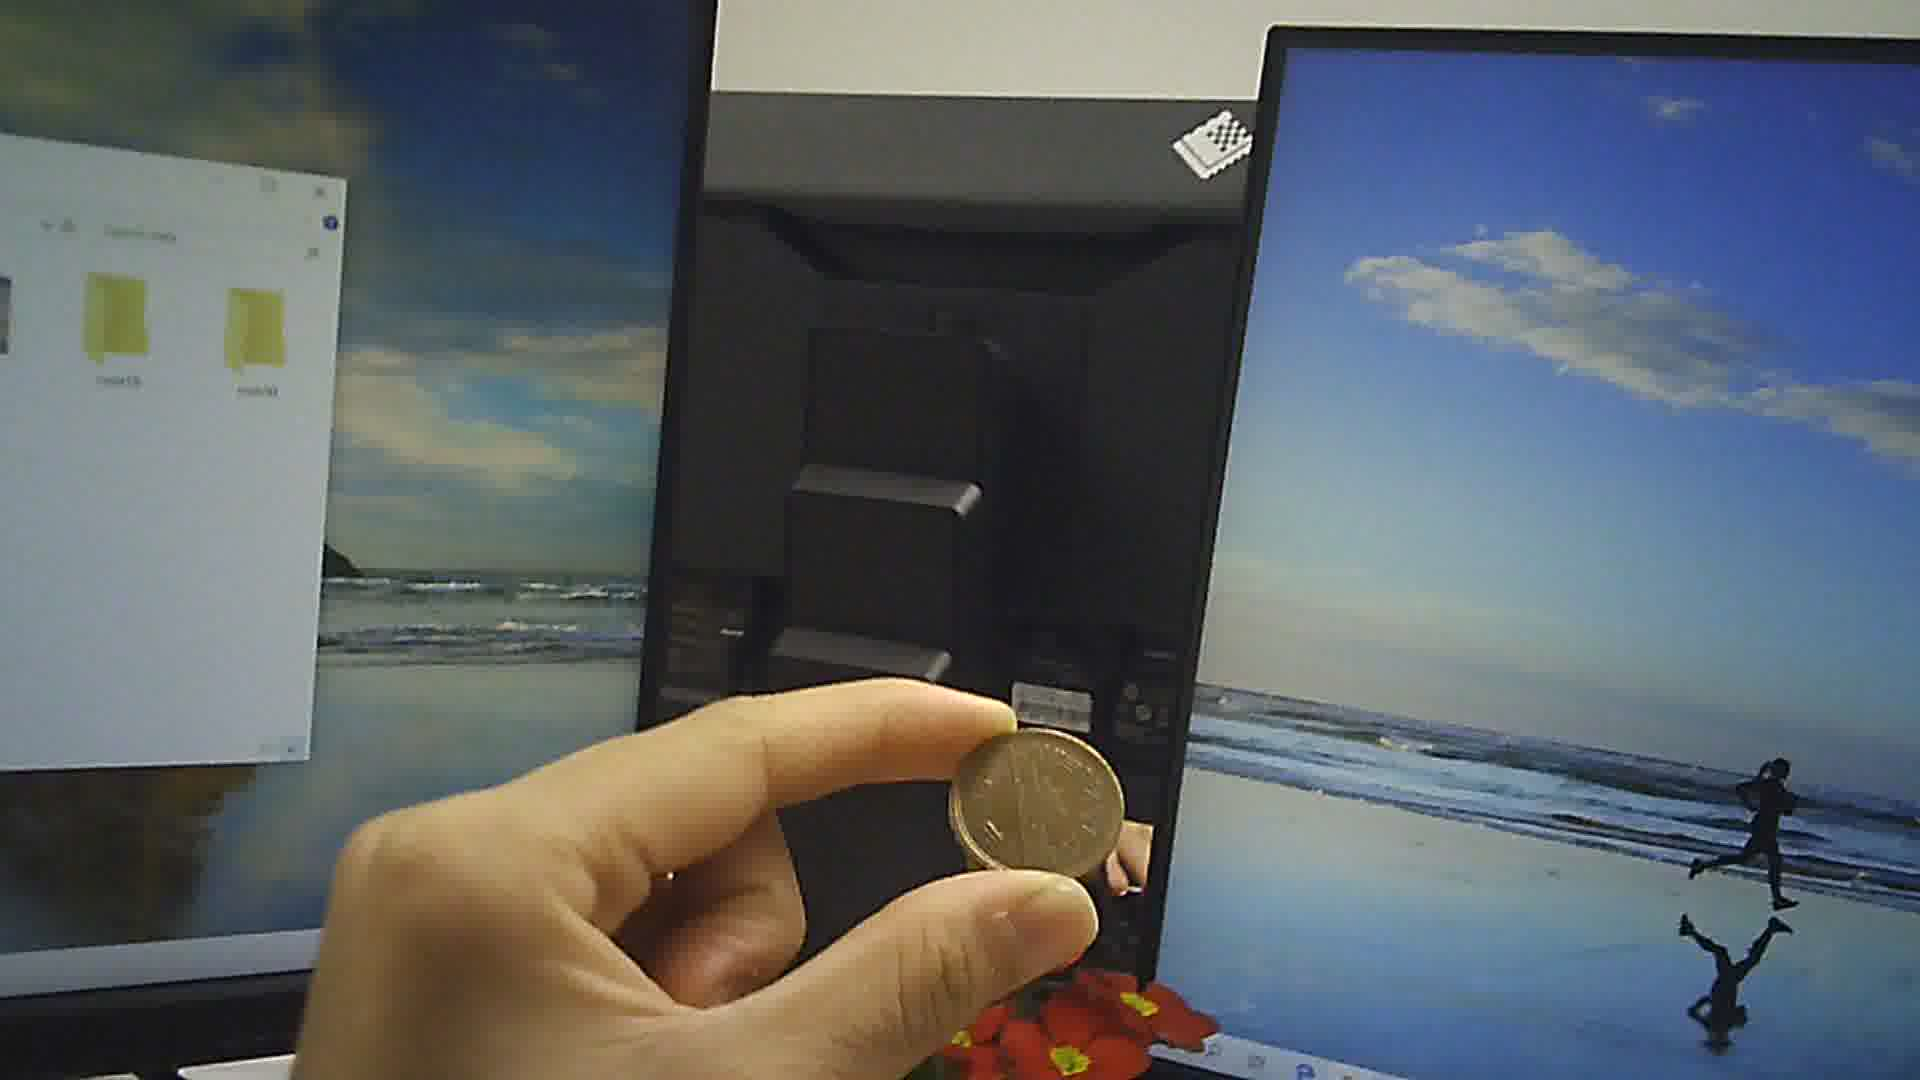10 Yen: (944, 713, 1124, 881)
